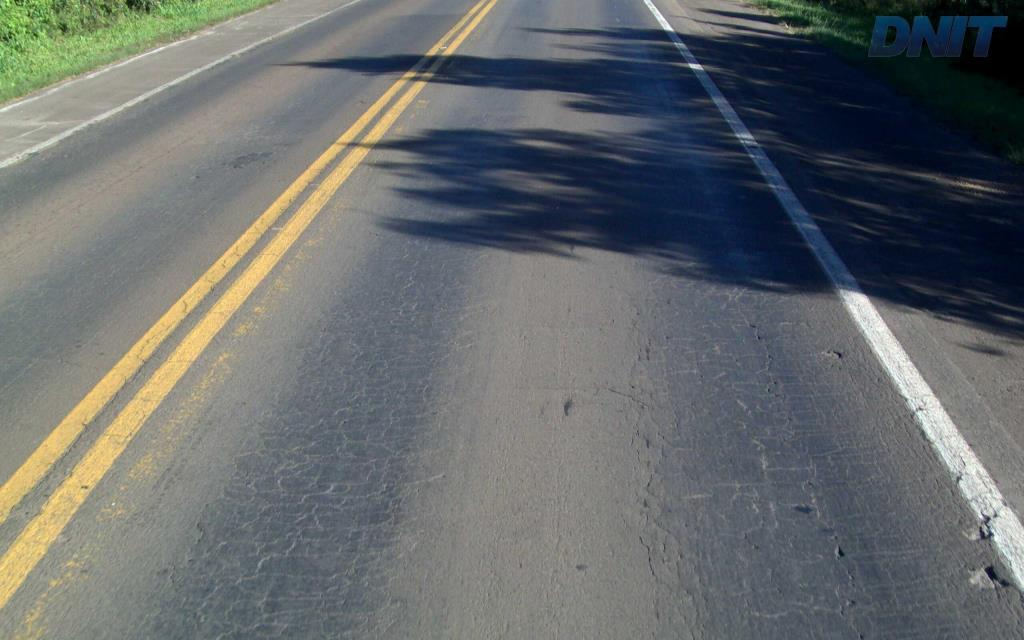crack: (984, 562, 1016, 602)
pothole: (965, 561, 1012, 590), (817, 347, 842, 360), (833, 537, 845, 556)
